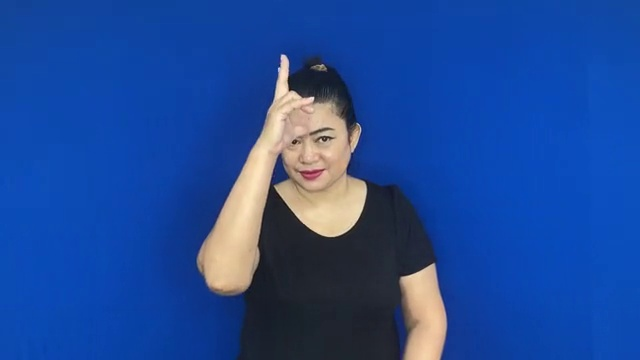chicken: (252, 48, 317, 156)
